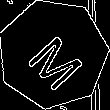M_NE: (19, 20, 87, 88)
